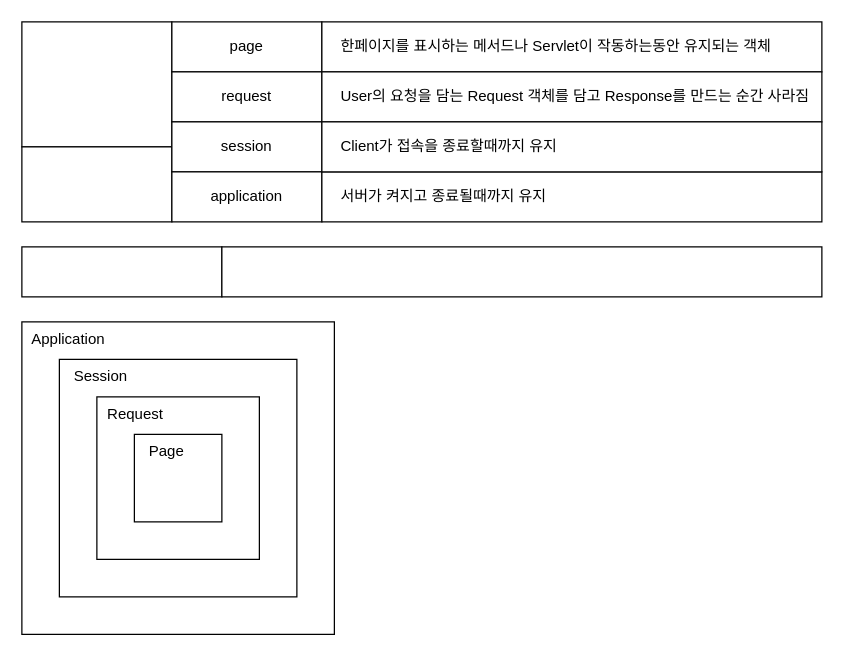
Image size: 844x656. Some labels were removed from this diagram. The centre of each missing label's shape, as x and y in pixels:
"scope" goes at [96,84].
"session : 서버에서 저장 관리 , cookie : Client가 저장 관리" goes at [521,271].
"session 과 cookie 차이점" goes at [121,271].
"객체가 서버의 메모리에서 유지되는 시간" goes at [96,184].
